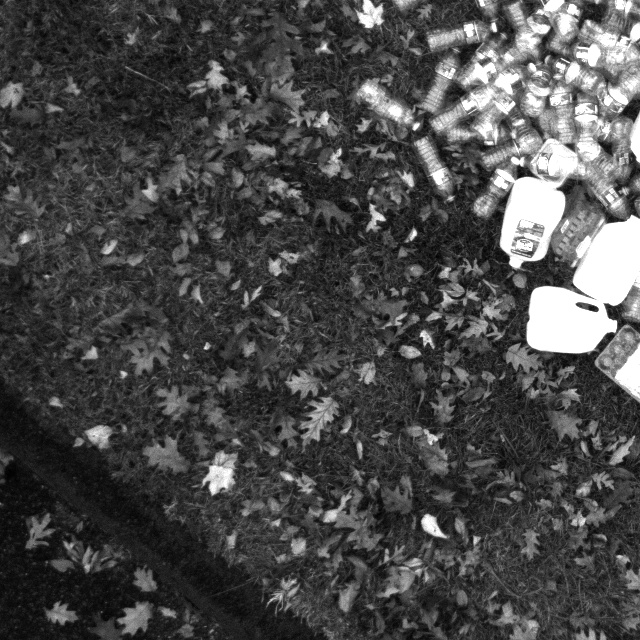bottle: (424, 82, 500, 142), (353, 77, 423, 134), (409, 134, 461, 210), (470, 153, 525, 223), (426, 14, 506, 58), (541, 50, 608, 102), (453, 30, 510, 91), (503, 0, 551, 72), (469, 83, 526, 143), (580, 168, 637, 226), (520, 150, 606, 188), (477, 131, 548, 177), (473, 132, 539, 178), (421, 53, 464, 118), (577, 18, 640, 62), (544, 0, 587, 62), (573, 137, 623, 189), (479, 42, 533, 90), (520, 62, 559, 122), (549, 80, 577, 150), (575, 76, 601, 147)
can: (521, 280, 620, 362), (494, 176, 567, 275), (570, 209, 640, 310)
container: (590, 320, 640, 428), (546, 192, 610, 272)
